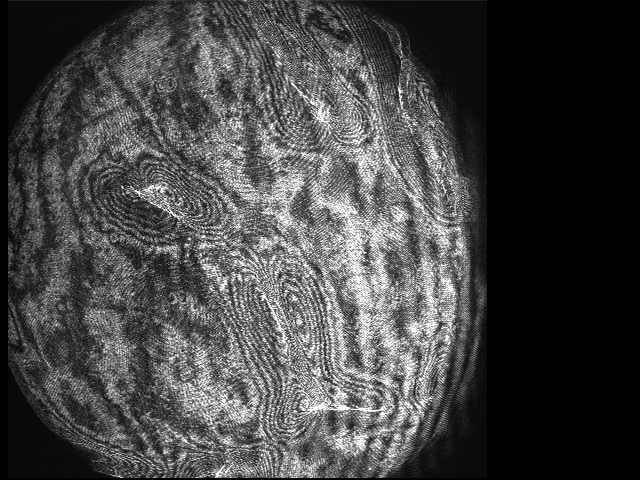plume: (88, 158, 239, 243)
